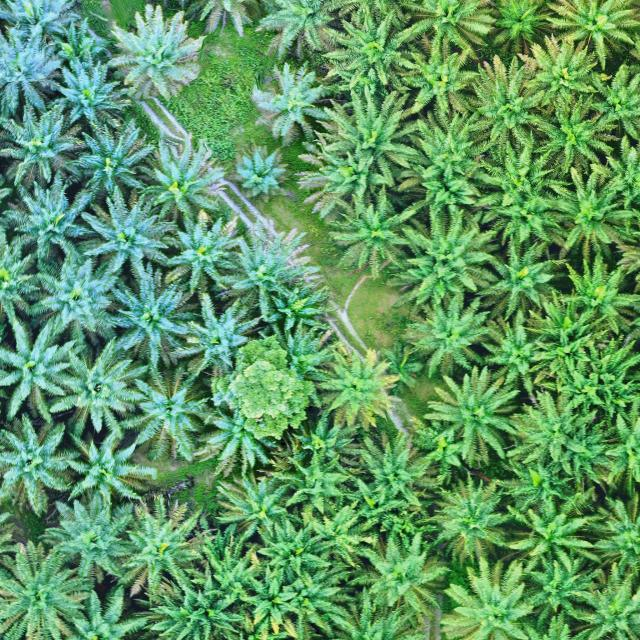Tree: (218, 214, 324, 320), (422, 364, 526, 472), (416, 470, 516, 579), (507, 387, 616, 487), (106, 0, 209, 105), (106, 257, 204, 367), (118, 489, 217, 596), (47, 332, 152, 430), (0, 534, 94, 640), (461, 236, 569, 328), (317, 82, 425, 172), (323, 181, 419, 282), (76, 184, 180, 277), (400, 200, 498, 298), (121, 362, 215, 463), (44, 485, 138, 584), (348, 528, 452, 614), (2, 171, 99, 262), (0, 412, 83, 515), (438, 554, 537, 640), (545, 165, 640, 254), (402, 294, 493, 386), (62, 424, 160, 509), (0, 317, 79, 422), (139, 132, 230, 223), (31, 250, 122, 340), (173, 289, 264, 376), (498, 494, 594, 576), (162, 206, 246, 298), (254, 308, 346, 392), (308, 350, 399, 432), (0, 103, 83, 191), (146, 567, 246, 640), (531, 92, 621, 173), (67, 116, 157, 196), (319, 5, 404, 89), (251, 54, 332, 142), (388, 0, 494, 66), (544, 0, 640, 72), (559, 253, 640, 337), (292, 138, 374, 218), (51, 48, 132, 128), (469, 48, 548, 130), (0, 23, 67, 118), (356, 428, 432, 511), (518, 549, 604, 622), (235, 559, 312, 640), (563, 559, 640, 640), (193, 402, 277, 476), (212, 469, 292, 546), (521, 36, 602, 112), (478, 135, 556, 213), (403, 42, 481, 120), (269, 444, 353, 516), (301, 498, 378, 575), (414, 114, 498, 184), (256, 516, 334, 590), (579, 60, 640, 151), (286, 407, 372, 470), (479, 310, 554, 382), (195, 519, 264, 594), (582, 492, 640, 581), (579, 328, 640, 410), (253, 0, 336, 60), (225, 136, 294, 205), (532, 318, 594, 392), (410, 160, 483, 212), (487, 0, 555, 54), (490, 193, 556, 245)
